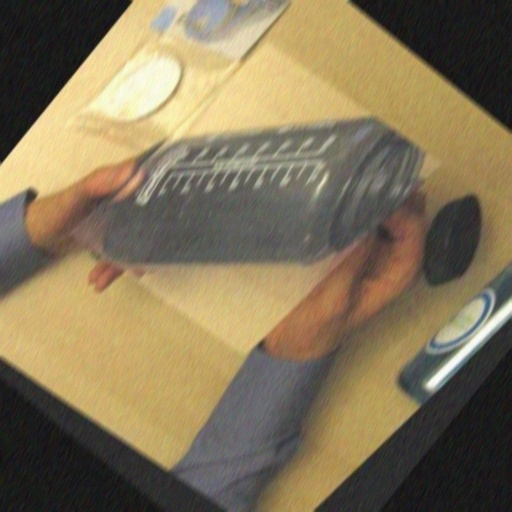bottle: (84, 27, 434, 387)
